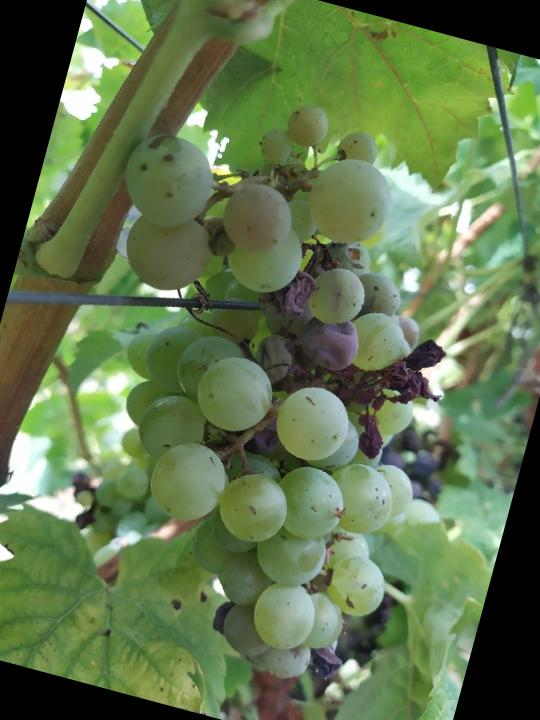grape: (6, 59, 509, 704)
